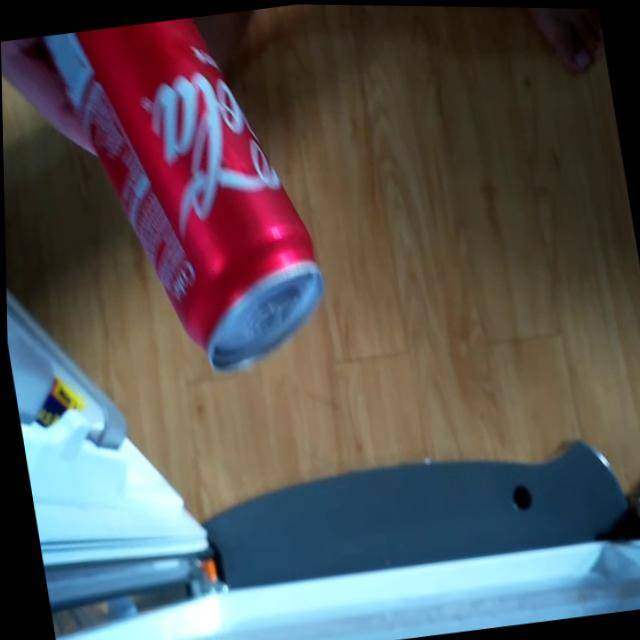coke: (50, 4, 343, 394)
